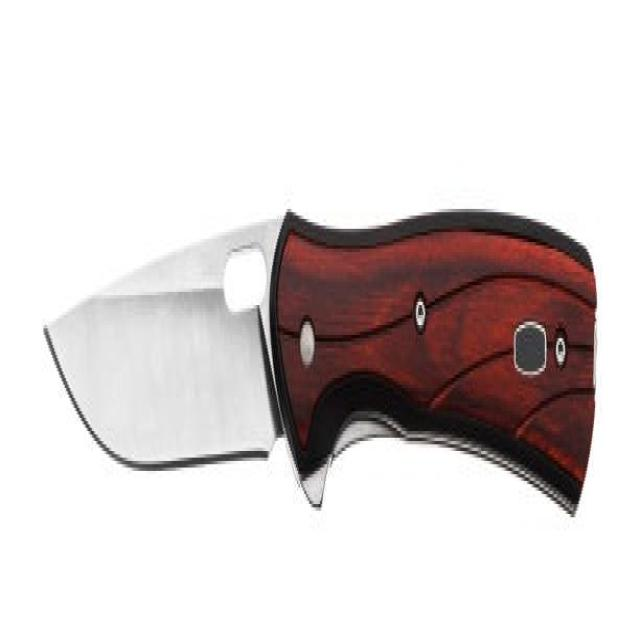knife: (41, 193, 605, 521)
